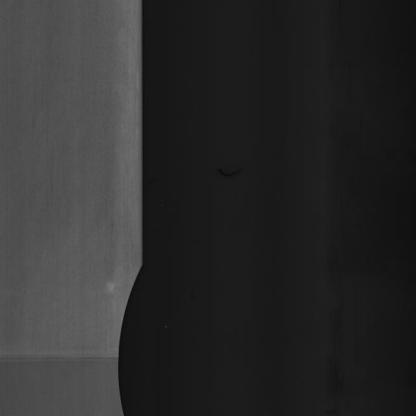crescent_gap: (112, 252, 151, 416)
welding_line: (0, 348, 124, 370)
